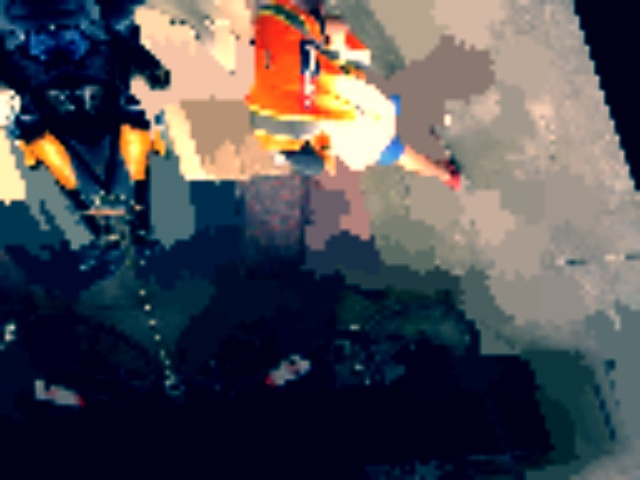one: (157, 19, 207, 66)
